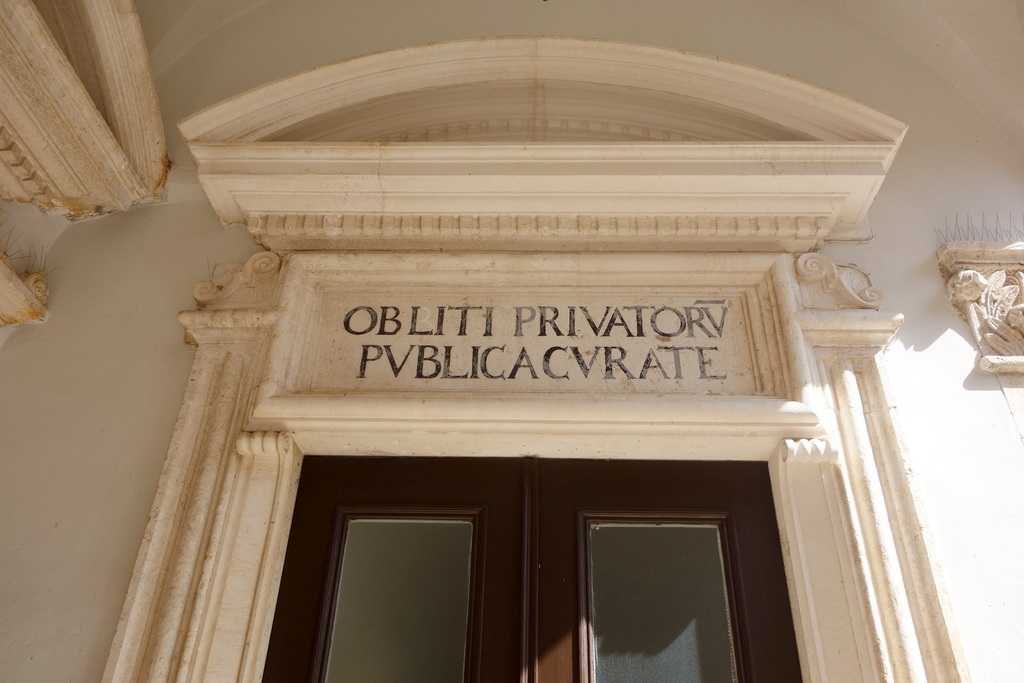door: (534, 471, 769, 683), (313, 459, 513, 683)
